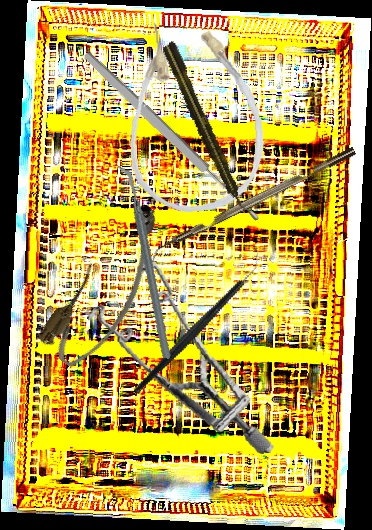Cannula: (119, 14, 270, 217), (33, 196, 185, 377)
Chopper: (103, 251, 291, 395), (144, 146, 362, 267), (80, 164, 208, 359)
Handpiece: (159, 39, 252, 218)
Speculum: (79, 242, 275, 478)
Surgical Spoon: (80, 48, 263, 226)
